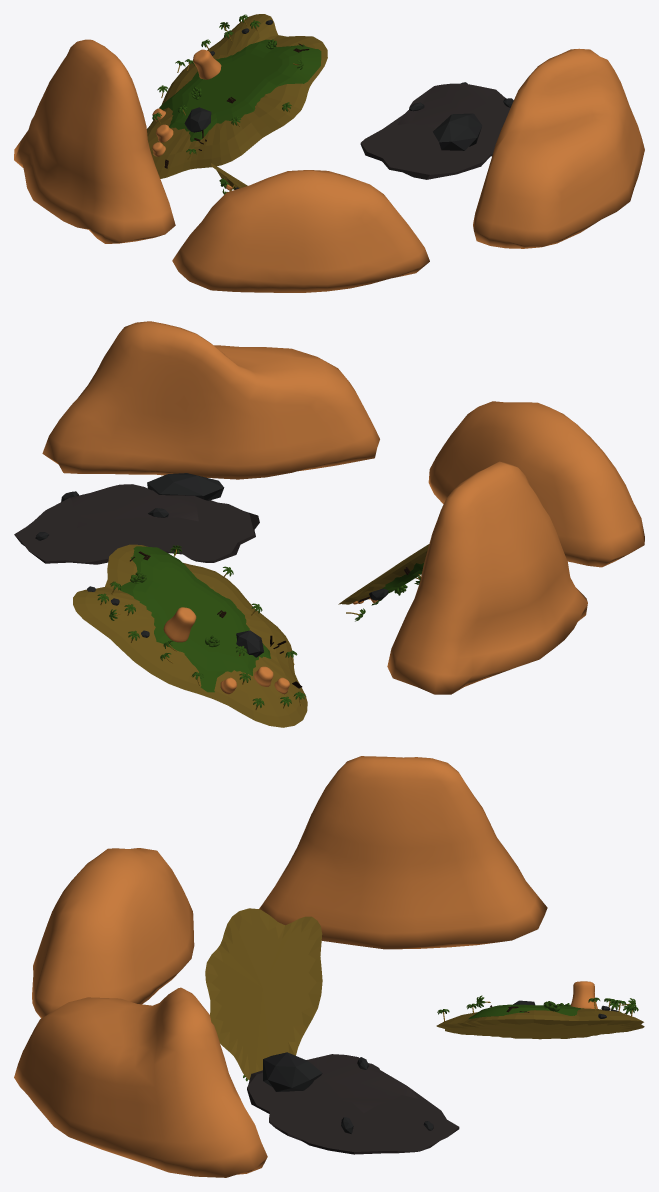
Rendered from ScenaTropical-- 1.fbx.
3 views of the same model, one above another, from view 1: azimuth 30°, elevation 25°; view 2: azimuth 150°, elevation 25°; view 3: azimuth 270°, elevation 25° (orthographic). The views are drawn at different scales.
Parts seen in each view (by area): view 1: Montañas, Isla3, Isla1, pasto, roca005, Monticulo002, roca011; view 2: Montañas, Isla1, Isla3, pasto, Monticulo002, roca005, Isla2; view 3: Montañas, Isla2, Isla1, Isla3, roca005, pasto, Monticulo002.
Boxes of the visible parts, left/top/right/bottom form: Montañas: left=14, top=39, right=644, bottom=292; Isla3: left=147, top=14, right=327, bottom=178; Isla1: left=360, top=83, right=510, bottom=179; pasto: left=159, top=39, right=321, bottom=141; roca005: left=433, top=113, right=482, bottom=150; Monticulo002: left=152, top=49, right=221, bottom=156; roca011: left=184, top=107, right=211, bottom=132; Montañas: left=42, top=321, right=644, bottom=694; Isla1: left=14, top=484, right=259, bottom=564; Isla3: left=73, top=544, right=307, bottom=727; pasto: left=119, top=546, right=270, bottom=692; Monticulo002: left=163, top=607, right=289, bottom=694; roca005: left=147, top=473, right=224, bottom=500; Isla2: left=338, top=544, right=429, bottom=604; Montañas: left=14, top=756, right=547, bottom=1177; Isla2: left=205, top=908, right=322, bottom=1080; Isla1: left=247, top=1054, right=459, bottom=1154; Isla3: left=436, top=1008, right=644, bottom=1039; roca005: left=263, top=1052, right=322, bottom=1091; pasto: left=468, top=1004, right=583, bottom=1018; Monticulo002: left=570, top=981, right=597, bottom=1008.
Bounding box in the file's own units: 63.62 × 24.26 × 58.56.
